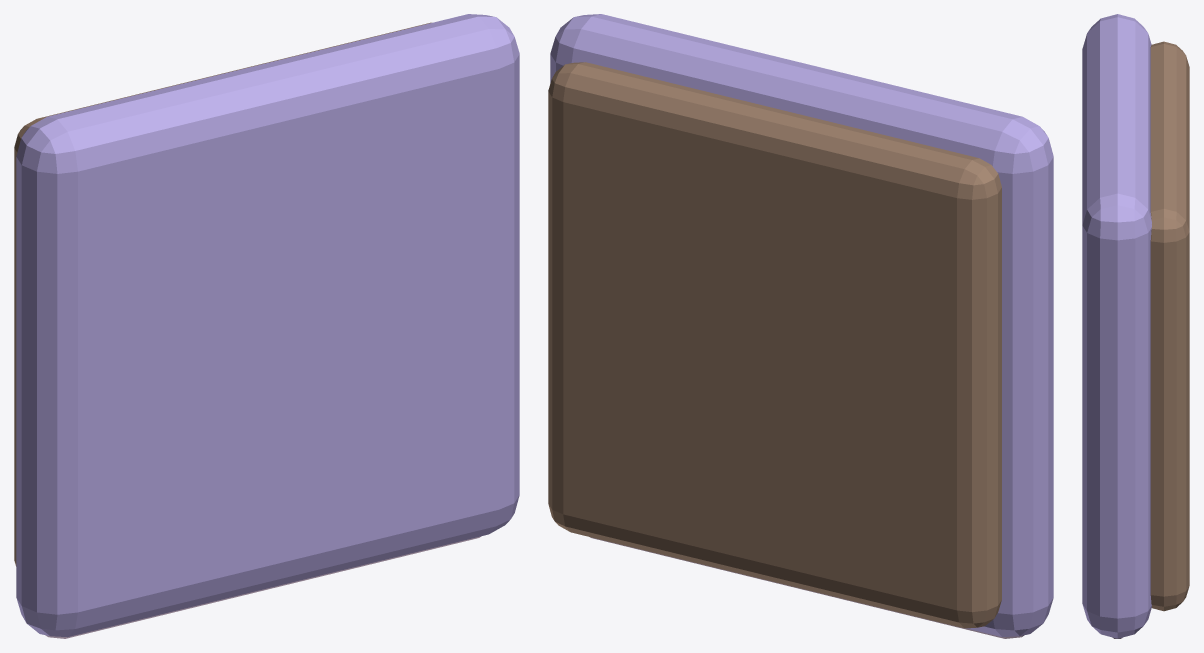
The model's file is plot_island_wet.fbx.
The picture shows the model from 3 angles, left to right: view 1: azimuth 30°, elevation 25°; view 2: azimuth 150°, elevation 25°; view 3: azimuth 270°, elevation 25°; orthographic projection. The views are drawn at different scales.
Visible parts, largest first — view 1: plot_island_wet_base, plot_island_wet_solo; view 2: plot_island_wet_solo, plot_island_wet_base; view 3: plot_island_wet_base, plot_island_wet_solo.
Part boxes in pixels (x1,y1,x2,y2): plot_island_wet_base: [16, 14, 519, 638]; plot_island_wet_solo: [14, 22, 431, 566]; plot_island_wet_solo: [548, 62, 1001, 628]; plot_island_wet_base: [550, 14, 1053, 638]; plot_island_wet_base: [1082, 14, 1151, 638]; plot_island_wet_solo: [1150, 41, 1189, 611].
Bounding box in the file's own units: 190 × 191 × 41.75.
